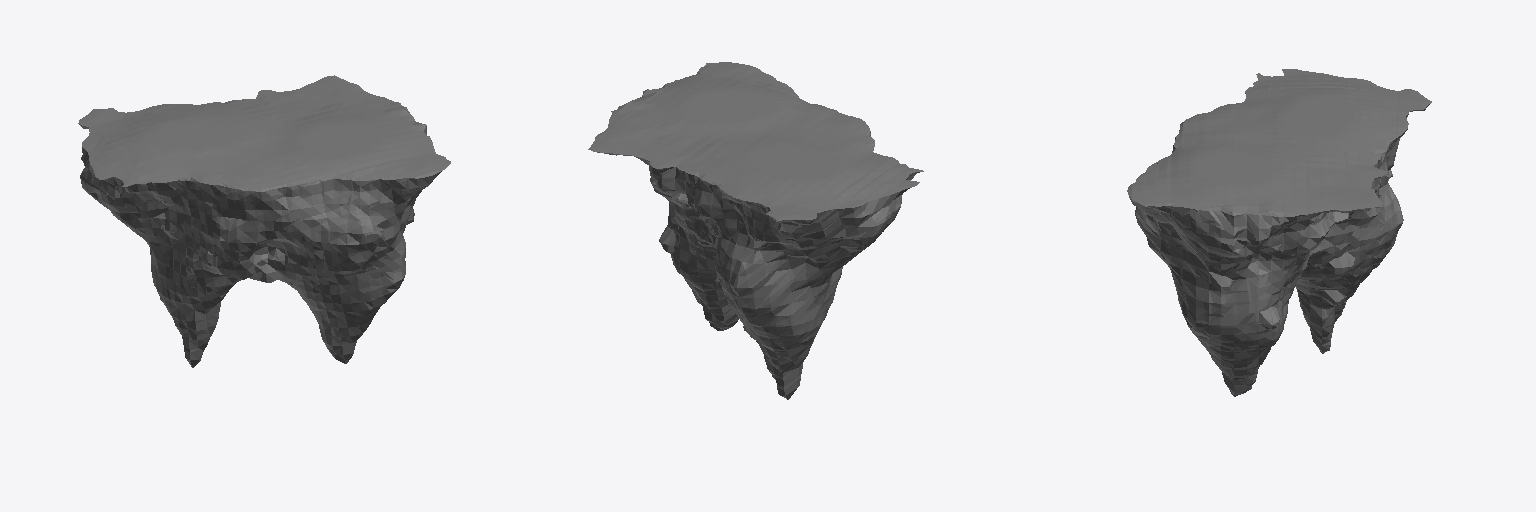
File: IslandShop.obj
The picture shows the model from 3 angles: view 1: azimuth 30°, elevation 25°; view 2: azimuth 150°, elevation 25°; view 3: azimuth 270°, elevation 25°; orthographic projection.
Visible parts, largest first — view 1: IslandShop; view 2: IslandShop; view 3: IslandShop.
Boxes of the visible parts, <box> form: IslandShop: <box>78,75,450,367</box>; IslandShop: <box>588,62,923,399</box>; IslandShop: <box>1127,69,1431,396</box>.
Bounding box in the file's own units: 28.19 × 20.59 × 24.18.